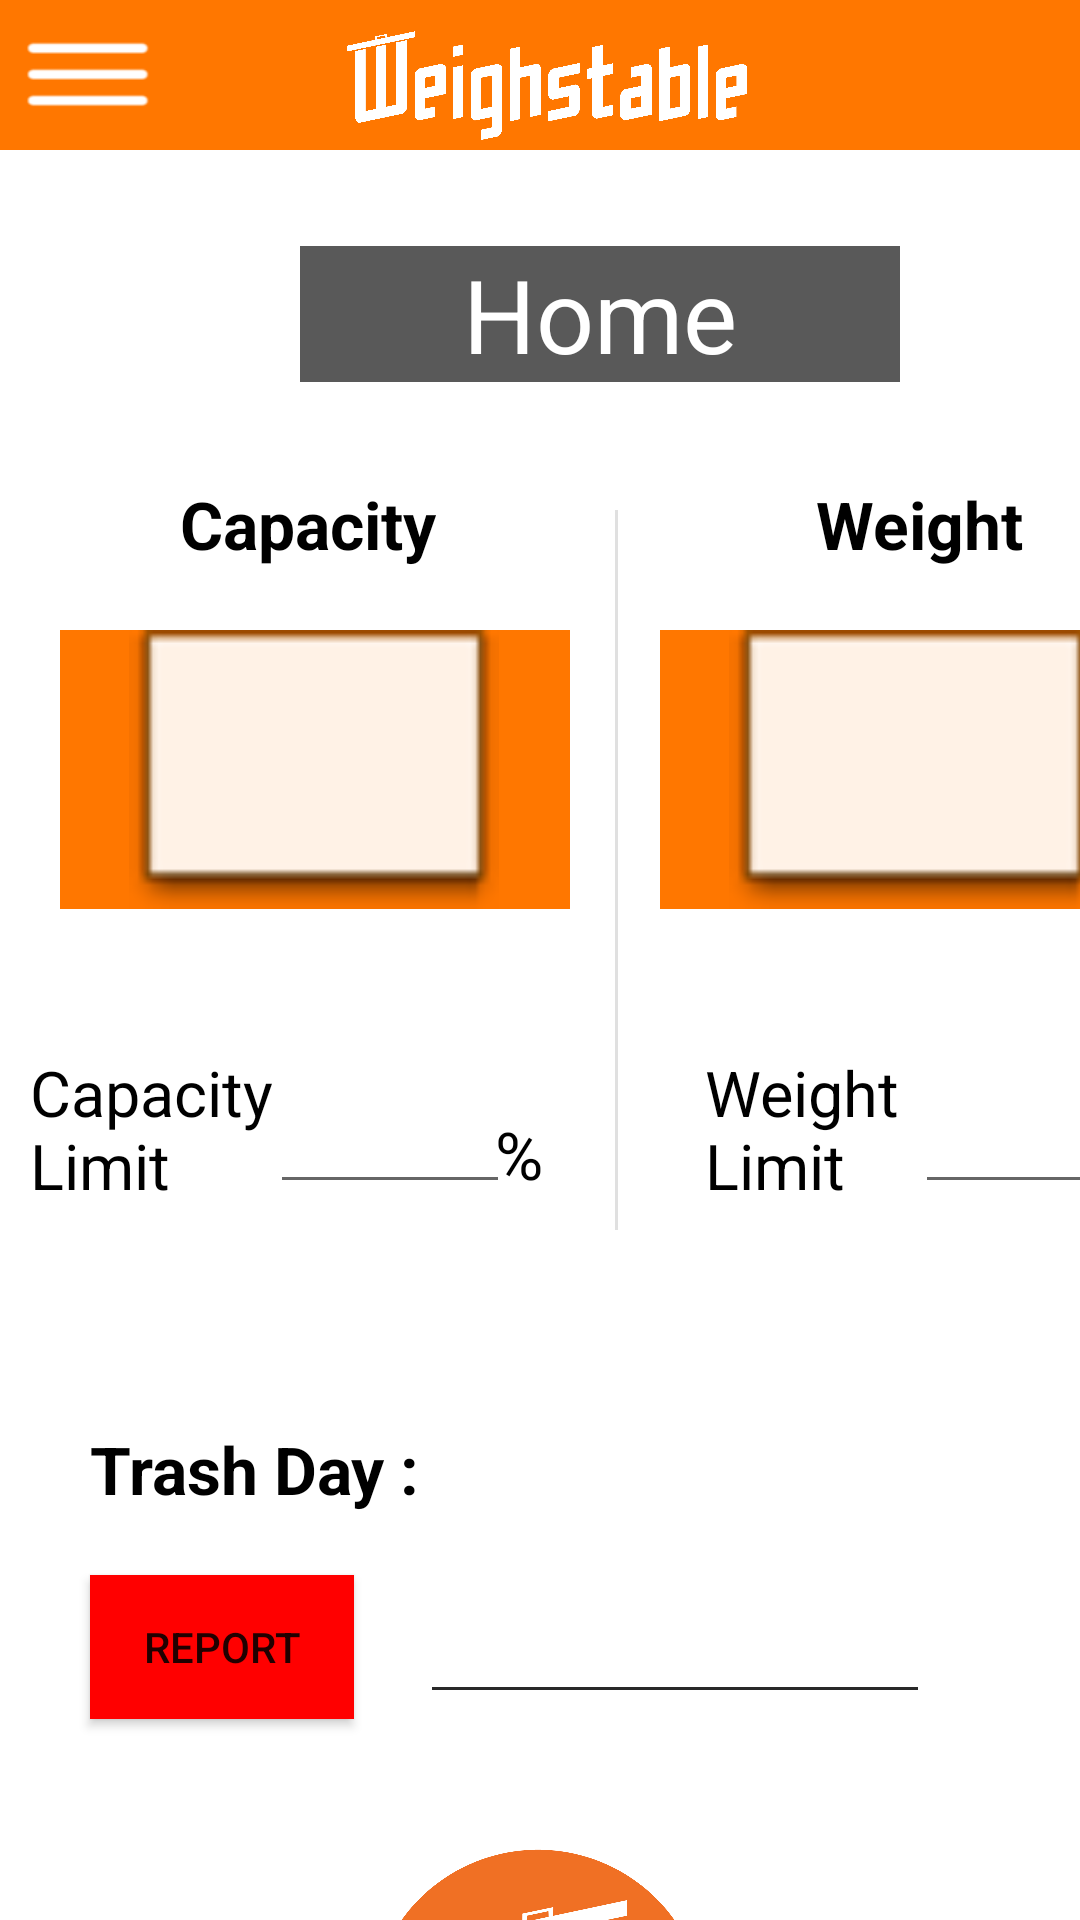

Screen size 1080x1920. Icon name, then its center in pixels as (x=x, y=y):
nav: (x=88, y=74)
